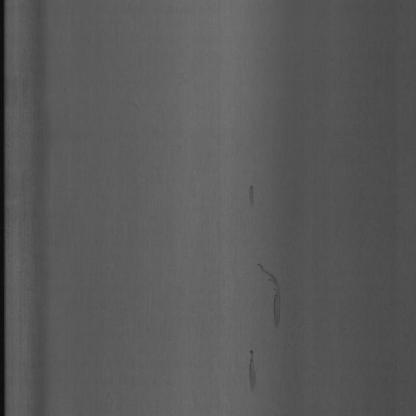water_spot: (234, 175, 292, 395)
